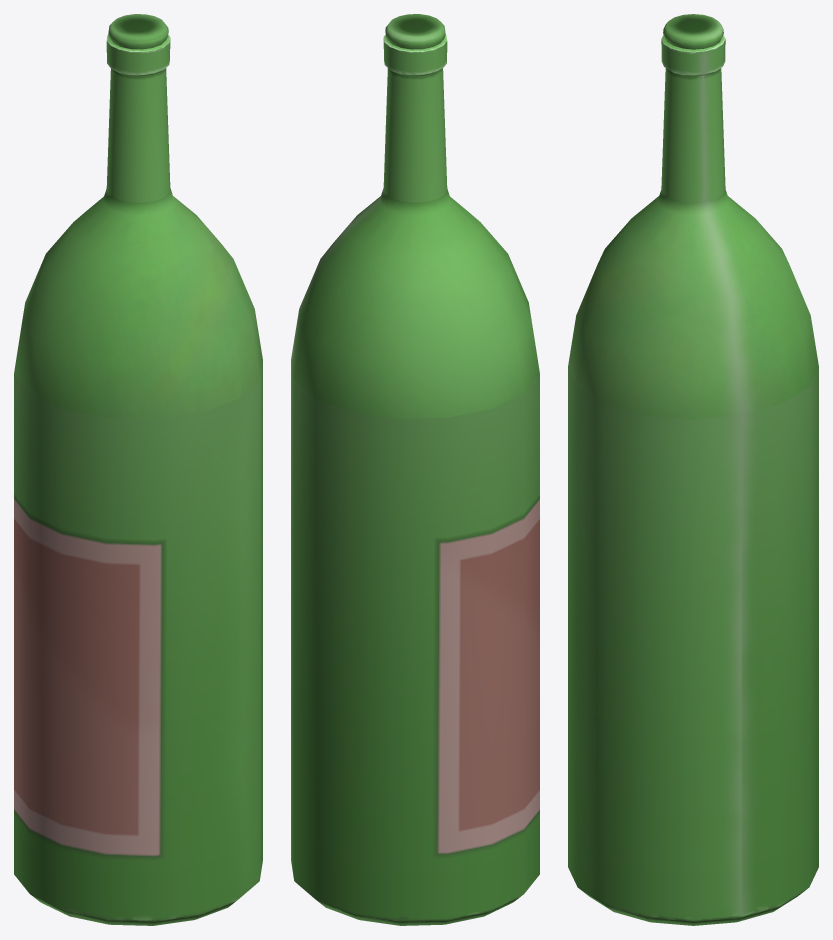
The model's file is md_bottle_1.fbx.
3 renders of one model, left to right at view 1: azimuth 30°, elevation 25°; view 2: azimuth 150°, elevation 25°; view 3: azimuth 270°, elevation 25°, orthographic.
Visible parts, largest first — view 1: pCylinder1; view 2: pCylinder1; view 3: pCylinder1.
Part boxes in pixels (x1,y1,x2,y2): pCylinder1: (14, 14, 262, 925); pCylinder1: (291, 14, 539, 925); pCylinder1: (568, 14, 818, 925).
Size of the model in its own units: 8 by 30 by 8.
